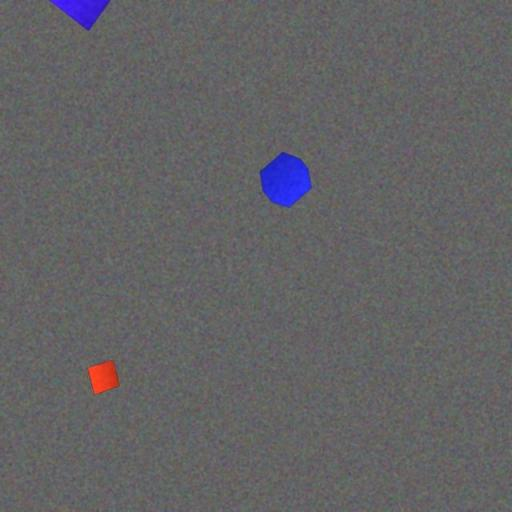BLUE_SQUARE: (41, 0, 123, 31)
RED_SQUARE: (86, 359, 120, 396)
